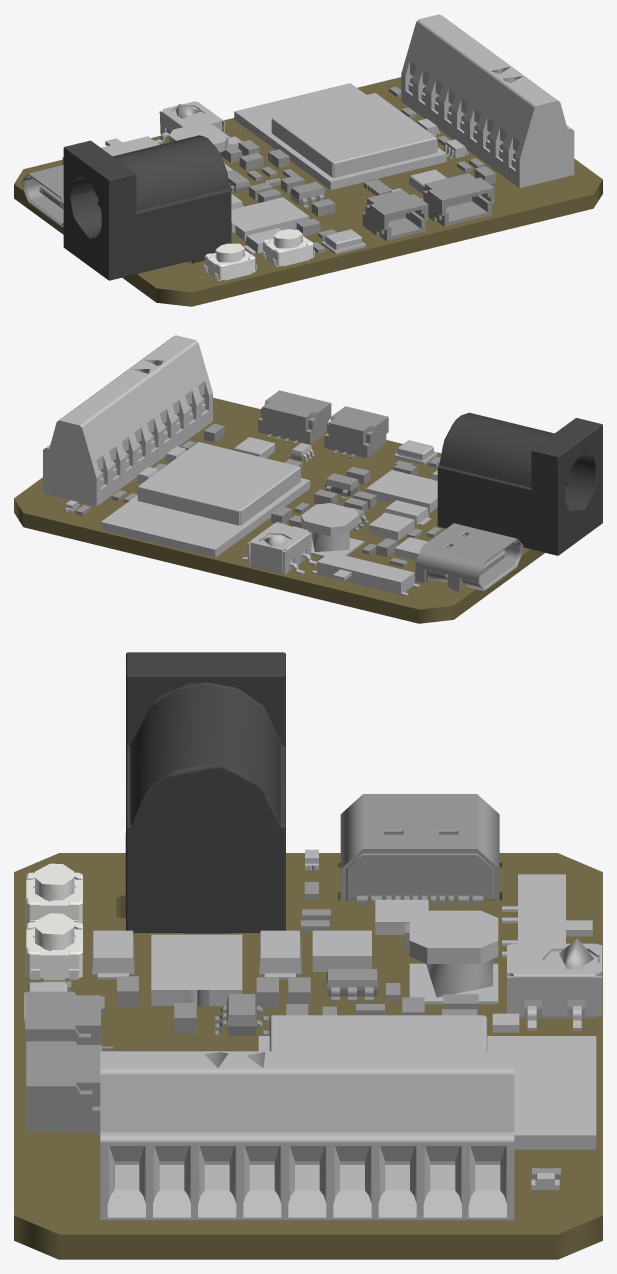
The model's file is ada-6100.glb.
3 views of the same model, one above another, from view 1: azimuth 30°, elevation 25°; view 2: azimuth 150°, elevation 25°; view 3: azimuth 270°, elevation 25° (orthographic). The views are drawn at different scales.
Visible parts, largest first — view 1: 0.5833333333333334_0.5833333333333334_0.5833333333333334_0.8, 0.16666666666666666_0.16666666666666666_0.08333333333333333_, 0.08333333333333333_0.08333333333333333_0.08333333333333333_, 0.3333333333333333_0.3333333333333333_0.3333333333333333_0, 0.9166666666666666_0.9166666666666666_0.9166666666666666_0.8; view 2: 0.5833333333333334_0.5833333333333334_0.5833333333333334_0.8, 0.16666666666666666_0.16666666666666666_0.08333333333333333_, 0.08333333333333333_0.08333333333333333_0.08333333333333333_, 0.3333333333333333_0.3333333333333333_0.3333333333333333_0; view 3: 0.5833333333333334_0.5833333333333334_0.5833333333333334_0.8, 0.16666666666666666_0.16666666666666666_0.08333333333333333_, 0.08333333333333333_0.08333333333333333_0.08333333333333333_, 0.3333333333333333_0.3333333333333333_0.3333333333333333_0, 0.9166666666666666_0.9166666666666666_0.9166666666666666_0.8.
Part boxes in pixels (x1,y1,x2,y2): 0.5833333333333334_0.5833333333333334_0.5833333333333334_0.8: (62,14,574,254); 0.16666666666666666_0.16666666666666666_0.08333333333333333_: (14,77,602,306); 0.08333333333333333_0.08333333333333333_0.08333333333333333_: (63,135,231,280); 0.3333333333333333_0.3333333333333333_0.3333333333333333_0: (22,86,495,253); 0.9166666666666666_0.9166666666666666_0.9166666666666666_0.8: (203,229,314,280); 0.5833333333333334_0.5833333333333334_0.5833333333333334_0.8: (43,335,504,596); 0.16666666666666666_0.16666666666666666_0.08333333333333333_: (14,397,544,623); 0.08333333333333333_0.08333333333333333_0.08333333333333333_: (437,412,602,555); 0.3333333333333333_0.3333333333333333_0.3333333333333333_0: (75,390,523,591); 0.5833333333333334_0.5833333333333334_0.5833333333333334_0.8: (24,849,602,1219); 0.16666666666666666_0.16666666666666666_0.08333333333333333_: (14,853,602,1259); 0.08333333333333333_0.08333333333333333_0.08333333333333333_: (125,652,285,933); 0.3333333333333333_0.3333333333333333_0.3333333333333333_0: (25,794,560,1180); 0.9166666666666666_0.9166666666666666_0.9166666666666666_0.8: (26,863,82,980).
Size of the model in its own units: 5.41 by 1.45 by 3.31.
